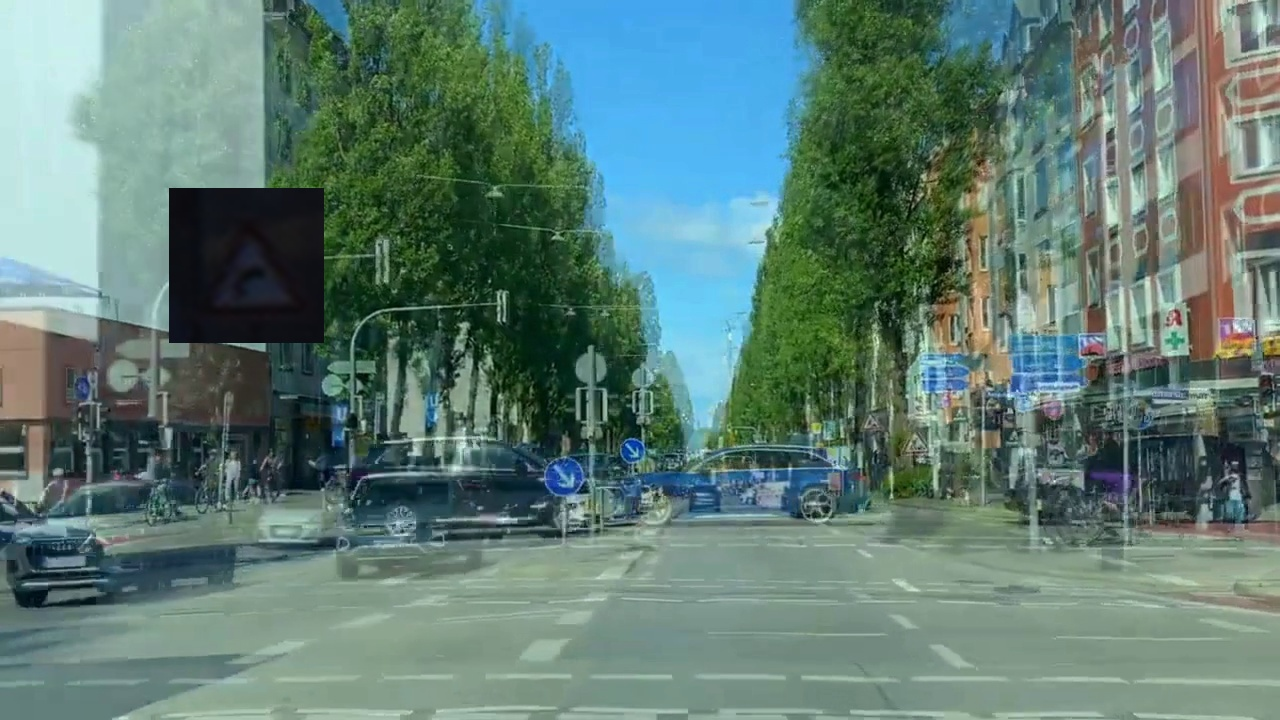Curve right: (169, 188, 324, 343)
